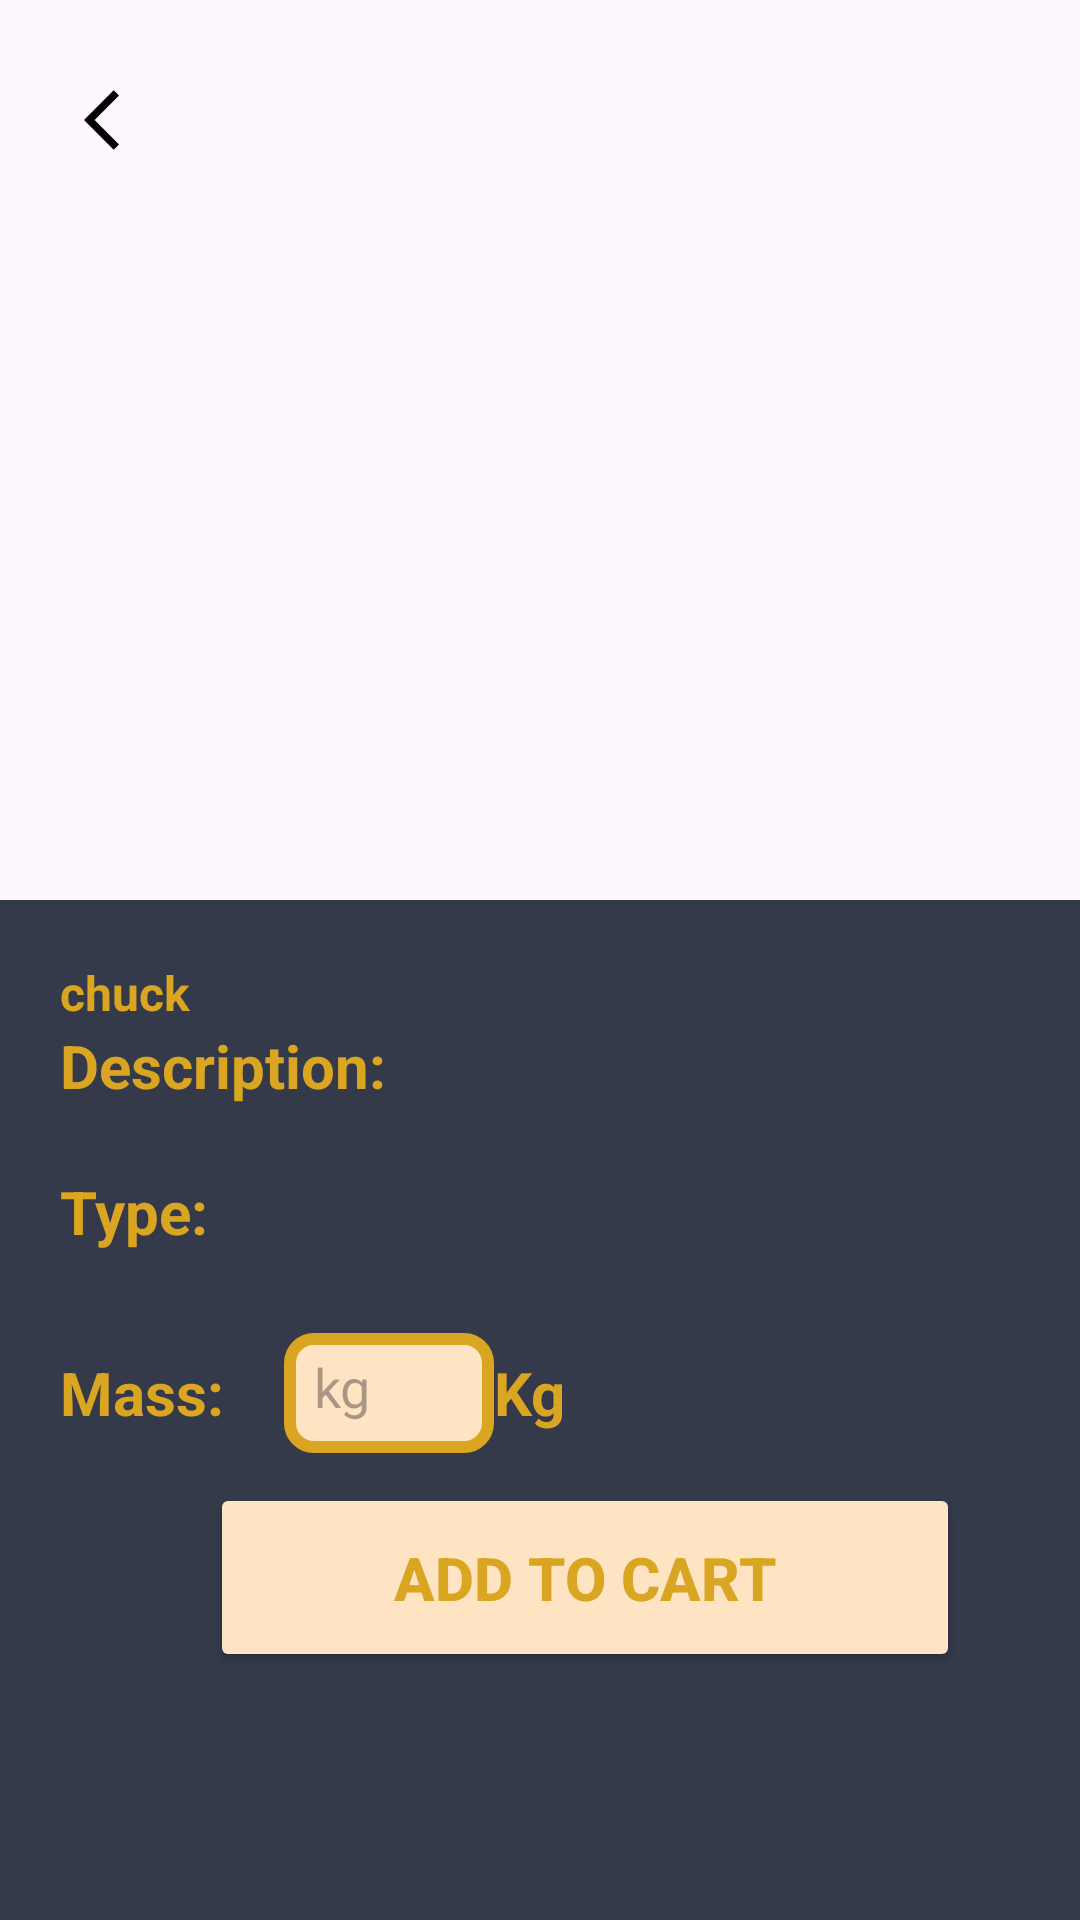

Icons on this 1080 × 1920 Android screen, each with its box as (x1, y1, x2, y2):
ar left: (84, 90, 119, 150)
